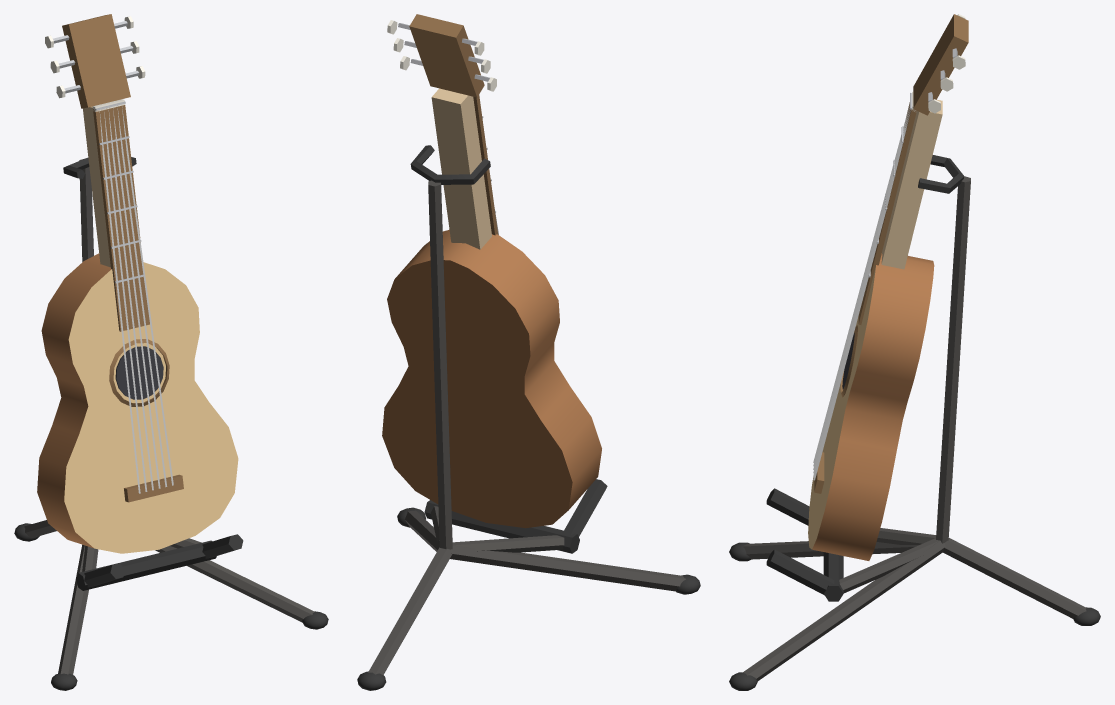
Rendered from furn_guitar.glb.
The picture shows the model from 3 angles, left to right: view 1: azimuth 30°, elevation 25°; view 2: azimuth 150°, elevation 25°; view 3: azimuth 270°, elevation 25°; orthographic projection. The views are drawn at different scales.
Parts seen in each view (by area): view 1: furn_guitar_body; view 2: furn_guitar_body; view 3: furn_guitar_body.
Boxes of the visible parts, bbox=[...] form: furn_guitar_body: bbox=[14, 14, 328, 690]; furn_guitar_body: bbox=[357, 14, 700, 690]; furn_guitar_body: bbox=[729, 14, 1100, 690].
Size of the model in its own units: 0.3704 by 0.7328 by 0.412.
